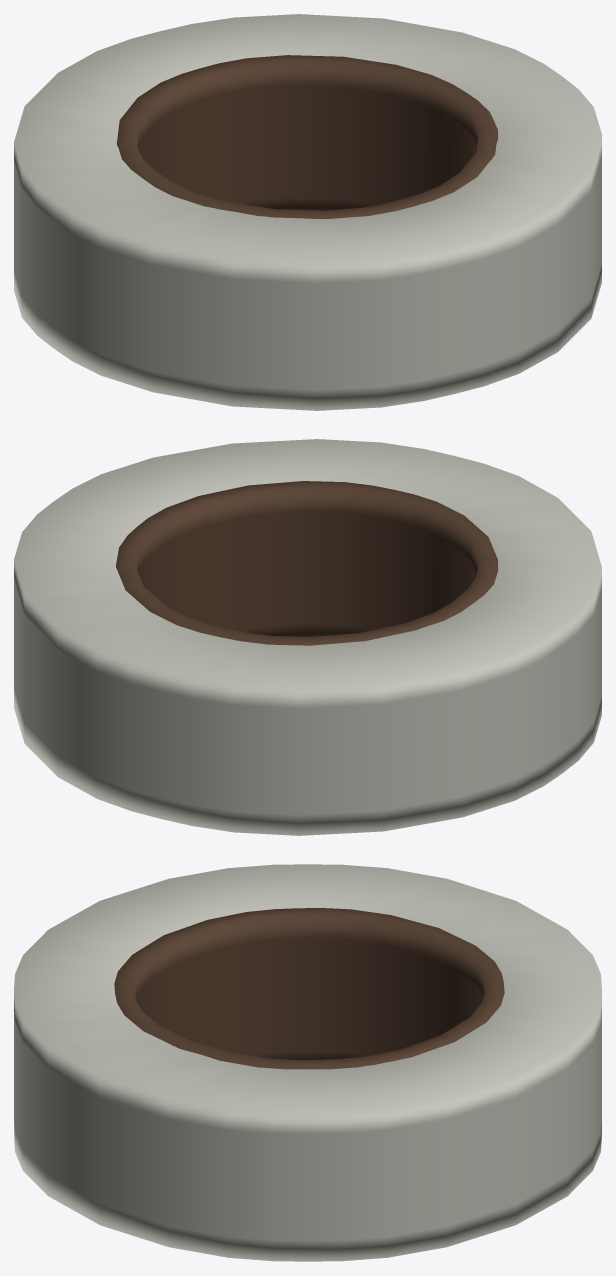
Rendered from tape 1.fbx.
3 renders of one model, top to bottom at view 1: azimuth 30°, elevation 25°; view 2: azimuth 150°, elevation 25°; view 3: azimuth 270°, elevation 25°, orthographic.
Parts seen in each view (by area): view 1: 曲面, 曲面.001; view 2: 曲面, 曲面.001; view 3: 曲面, 曲面.001.
Boxes of the visible parts, x1,y1,x2,y2 form: 曲面: (14, 14, 601, 410); 曲面.001: (116, 55, 497, 219); 曲面: (14, 439, 601, 835); 曲面.001: (116, 481, 498, 645); 曲面: (14, 864, 601, 1261); 曲面.001: (114, 908, 504, 1069).
Bounding box in the file's own units: 36.25 × 10.74 × 36.24.
